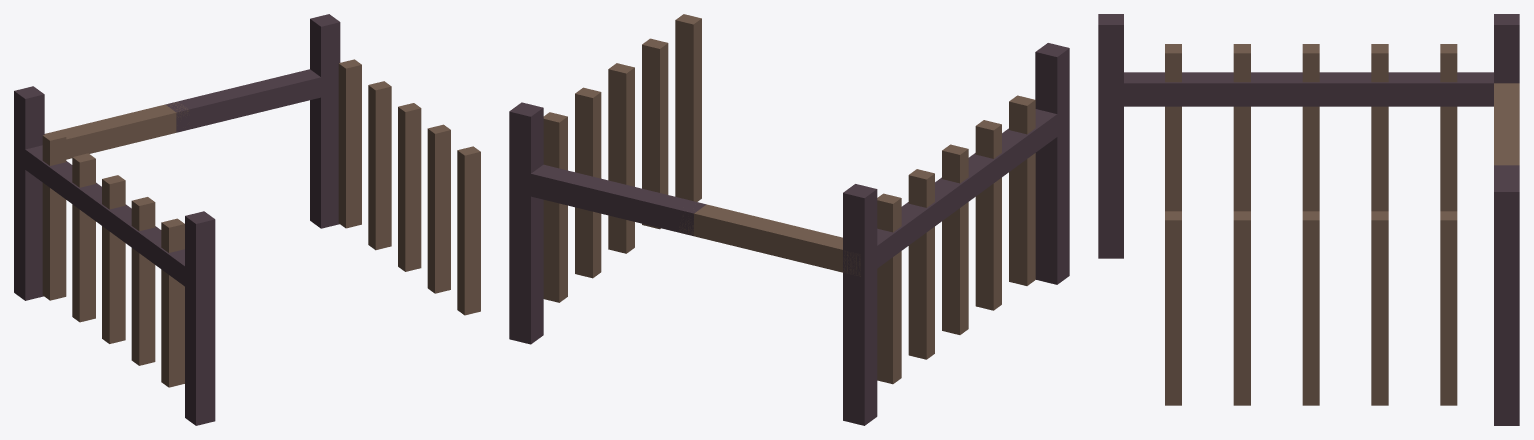
File: fence_corner.glb
3 renders of one model, left to right at view 1: azimuth 30°, elevation 25°; view 2: azimuth 150°, elevation 25°; view 3: azimuth 270°, elevation 25°, orthographic. The views are drawn at different scales.
Visible parts, largest first — view 1: fence_corner; view 2: fence_corner; view 3: fence_corner.
Boxes of the visible parts, x1,y1,x2,y2 form: fence_corner: [14, 14, 480, 425]; fence_corner: [509, 14, 1069, 425]; fence_corner: [1098, 14, 1519, 425].
Bounding box in the file's own units: 1.96 × 1.2 × 1.96.
